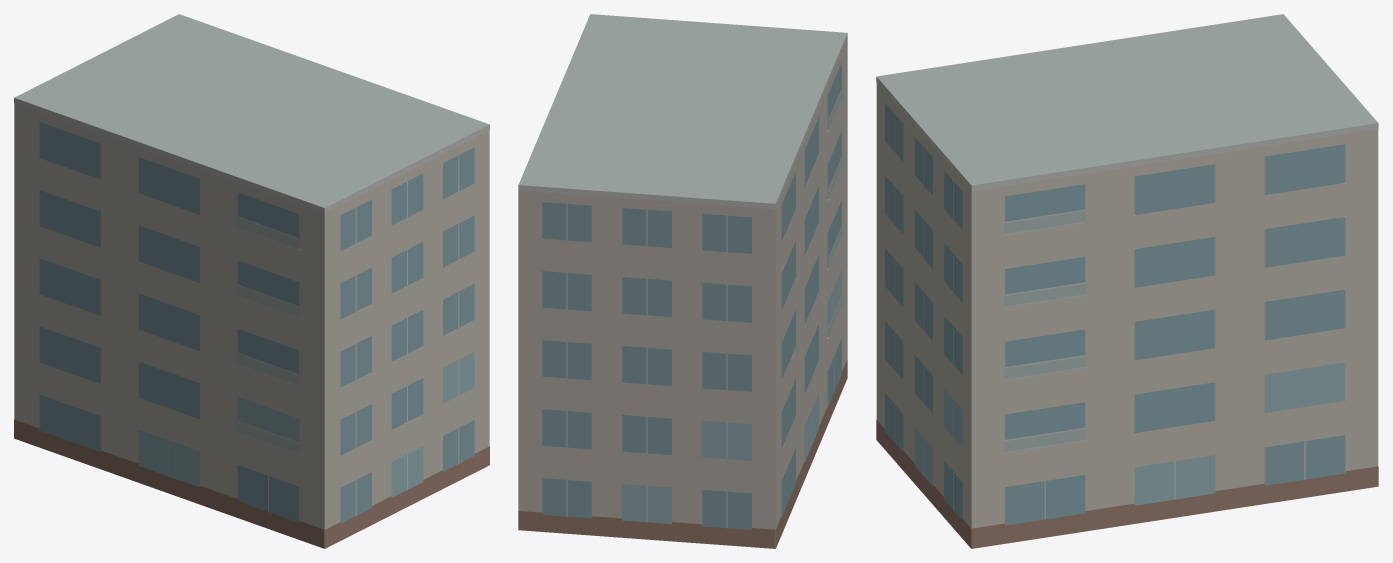
File: survey-upis-32556802.glb
The picture shows the model from 3 angles, left to right: view 1: azimuth 30°, elevation 25°; view 2: azimuth 150°, elevation 25°; view 3: azimuth 270°, elevation 25°; orthographic projection. The views are drawn at different scales.
Visible parts, largest first — view 1: survey-upis-32556802.tmp; view 2: survey-upis-32556802.tmp; view 3: survey-upis-32556802.tmp.
Boxes of the visible parts, x1,y1,x2,y2 form: survey-upis-32556802.tmp: (14,14,489,548); survey-upis-32556802.tmp: (518,14,847,548); survey-upis-32556802.tmp: (876,14,1378,548).
Size of the model in its own units: 15.44 by 15.25 by 19.1.
